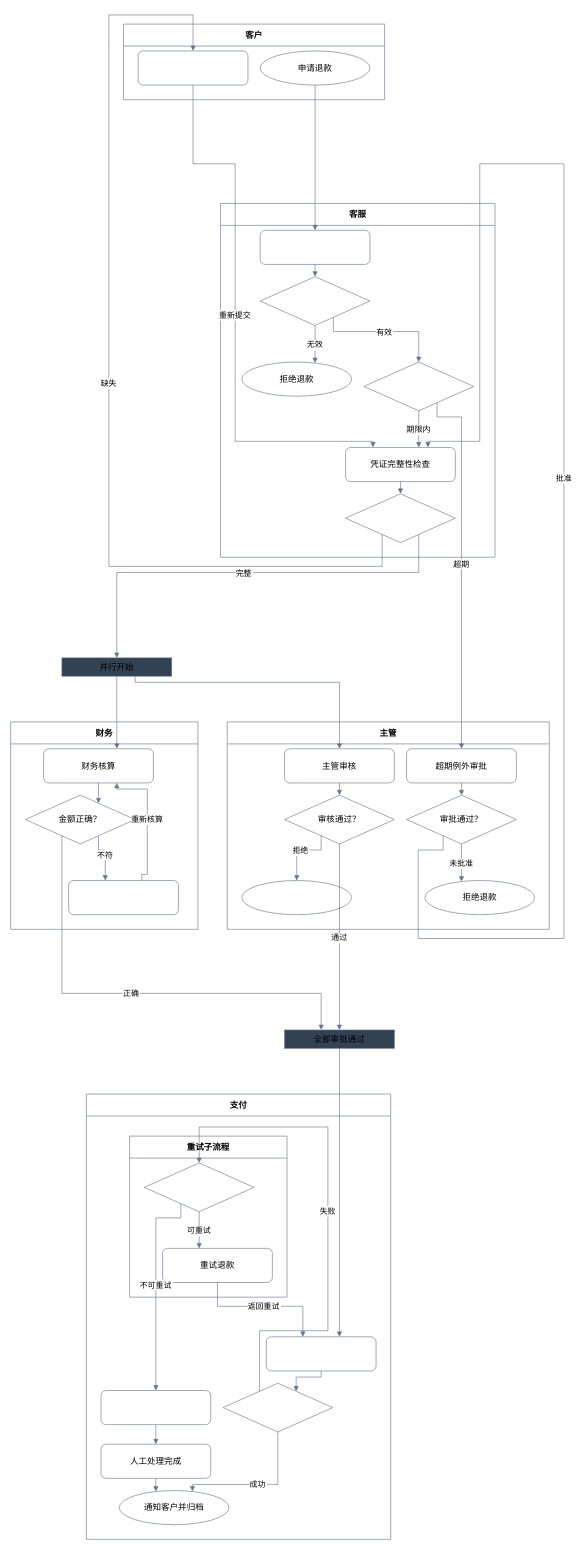
This 583x1550 diagram has some shape labels left out. The shapes that lost their labels are listed below. From the top down, each one's centre as x and y in pixels, then its label:
the point at 193,67: 补交凭证
the point at 315,247: 校验订单
the point at 315,300: 订单有效？
the point at 418,386: 在期限内？
the point at 400,518: 凭证完整？
the point at 123,897: 更正重算
the point at 296,897: 审核拒绝，结束
the point at 199,1187: 可重试？
the point at 321,1353: 执行退款
the point at 155,1407: 转人工处理
the point at 277,1407: 退款成功？
